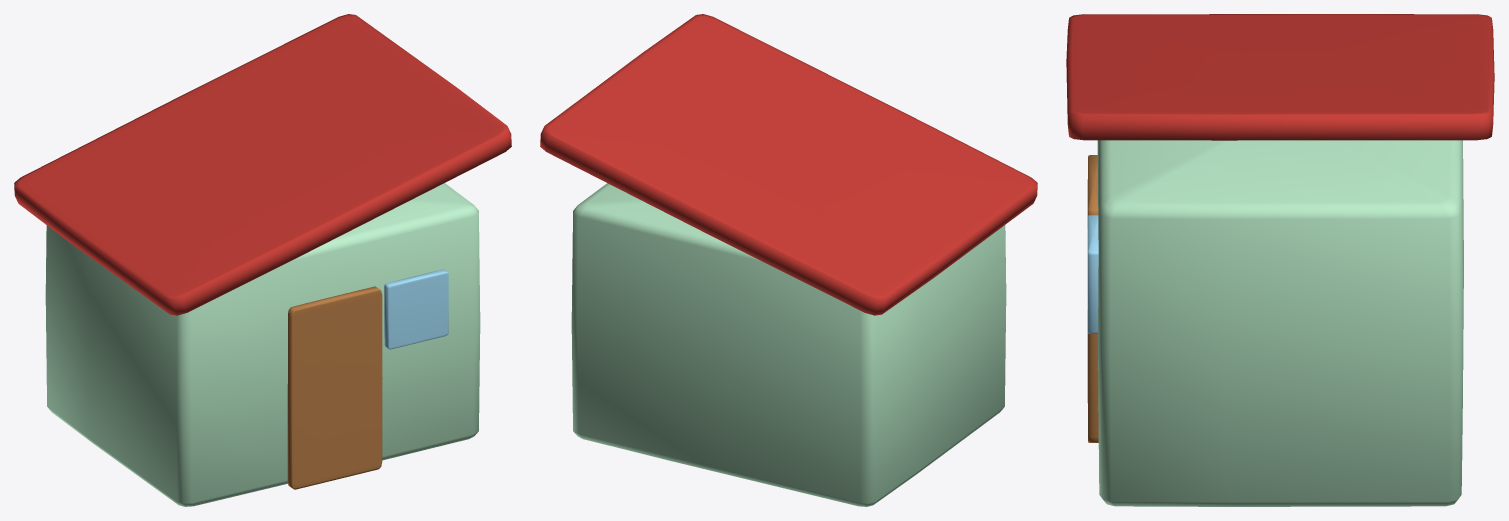
The model's file is shed.glb.
3 views of the same model, side by side, from view 1: azimuth 30°, elevation 25°; view 2: azimuth 150°, elevation 25°; view 3: azimuth 270°, elevation 25° (orthographic). The views are drawn at different scales.
Visible parts, largest first — view 1: Body; view 2: Body; view 3: Body.
Part boxes in pixels (x1=…): Body: x1=14, y1=14, x2=511, y2=506; Body: x1=540, y1=14, x2=1037, y2=506; Body: x1=1066, y1=14, x2=1494, y2=506.
Bounding box in the file's own units: 3.41 × 2.95 × 2.8.
